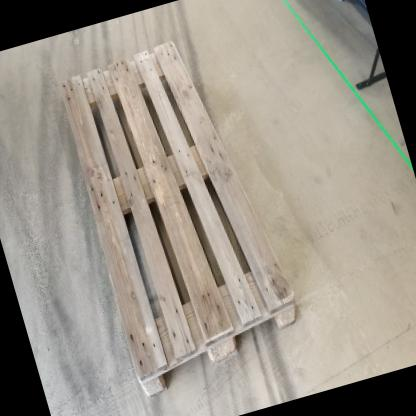BoxFace: (53, 36, 303, 409)
